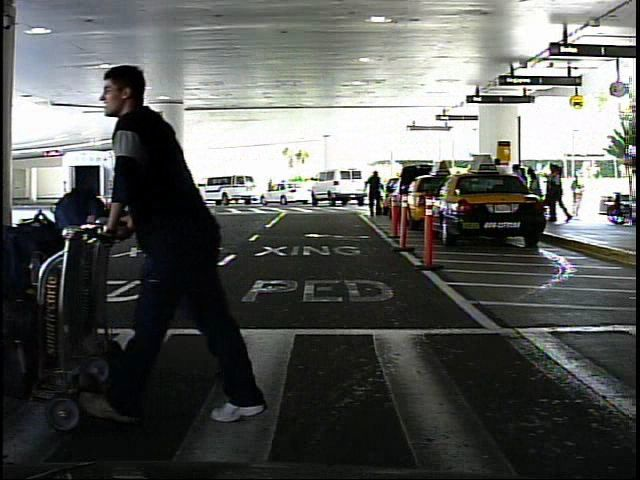person: (104, 47, 276, 426), (363, 167, 387, 223), (571, 171, 588, 218), (112, 170, 130, 208)
